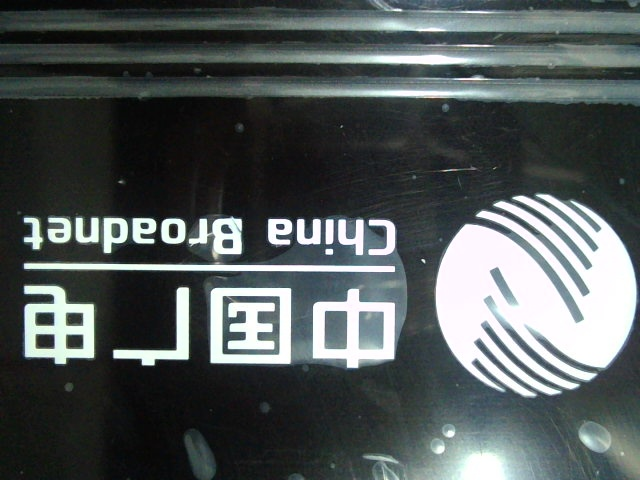AW_ChinaBroadNet: (7, 181, 637, 407)
